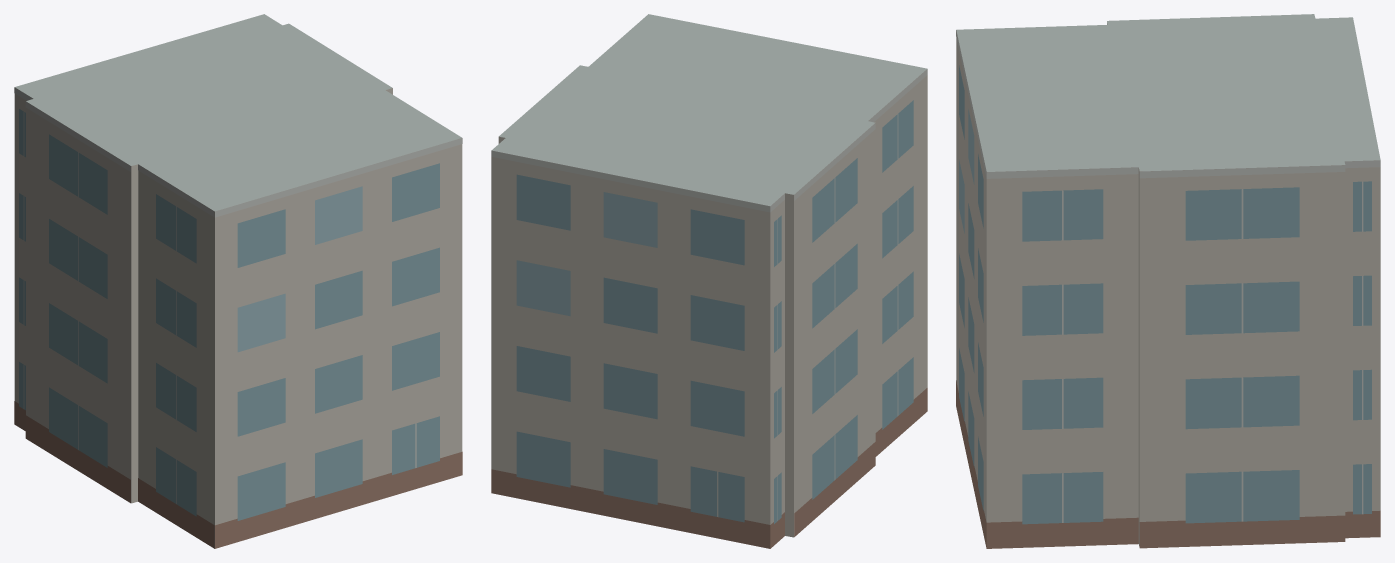
The model's file is survey-upis-32739105.glb.
The picture shows the model from 3 angles, left to right: view 1: azimuth 30°, elevation 25°; view 2: azimuth 150°, elevation 25°; view 3: azimuth 270°, elevation 25°; orthographic projection. The views are drawn at different scales.
Visible parts, largest first — view 1: survey-upis-32739105.tmp; view 2: survey-upis-32739105.tmp; view 3: survey-upis-32739105.tmp.
Boxes of the visible parts, x1,y1,x2,y2 form: survey-upis-32739105.tmp: [14, 14, 462, 548]; survey-upis-32739105.tmp: [491, 14, 927, 548]; survey-upis-32739105.tmp: [956, 14, 1380, 548].
Size of the model in its own units: 12.02 by 13.35 by 13.64.
